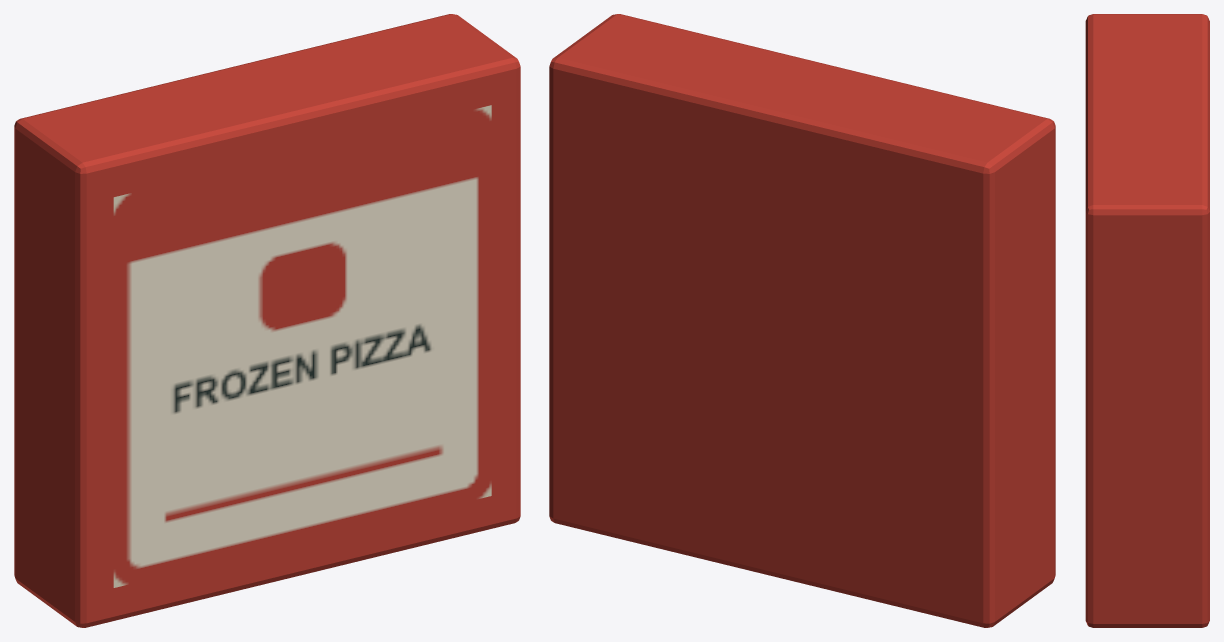
File: frozen_pizza.fbx
3 renders of one model, left to right at view 1: azimuth 30°, elevation 25°; view 2: azimuth 150°, elevation 25°; view 3: azimuth 270°, elevation 25°, orthographic. The views are drawn at different scales.
Parts seen in each view (by area): view 1: frozen_pizza; view 2: frozen_pizza; view 3: frozen_pizza.
Boxes of the visible parts, x1,y1,x2,y2 form: frozen_pizza: (14,14,520,627); frozen_pizza: (549,14,1055,627); frozen_pizza: (1085,14,1209,627).
Bounding box in the file's own units: 30 × 30 × 8.1.
